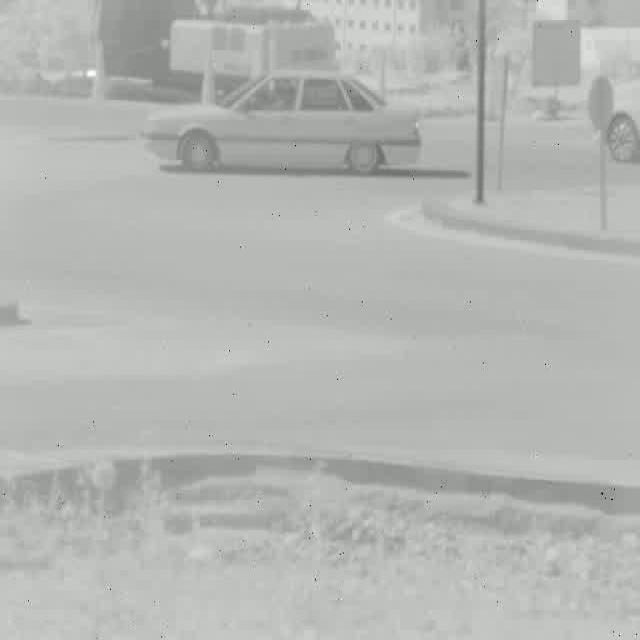Car: (142, 70, 420, 172), (591, 74, 640, 168)
